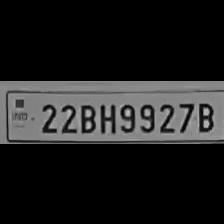2: (36, 100, 58, 134), (58, 100, 76, 134), (156, 100, 174, 132)
7: (175, 98, 193, 132)
9: (116, 100, 136, 132), (136, 100, 156, 132)
B: (194, 98, 216, 132), (78, 100, 96, 132)
H: (97, 99, 117, 133)
